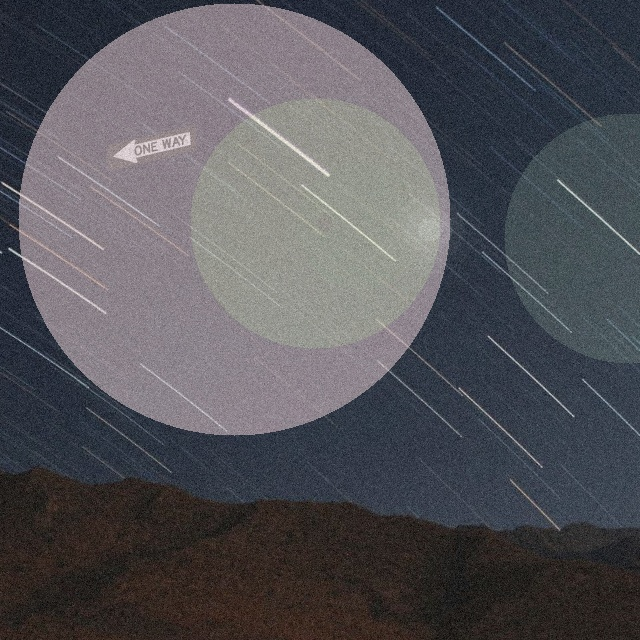ONE_WAY_ left: (106, 124, 197, 171)
